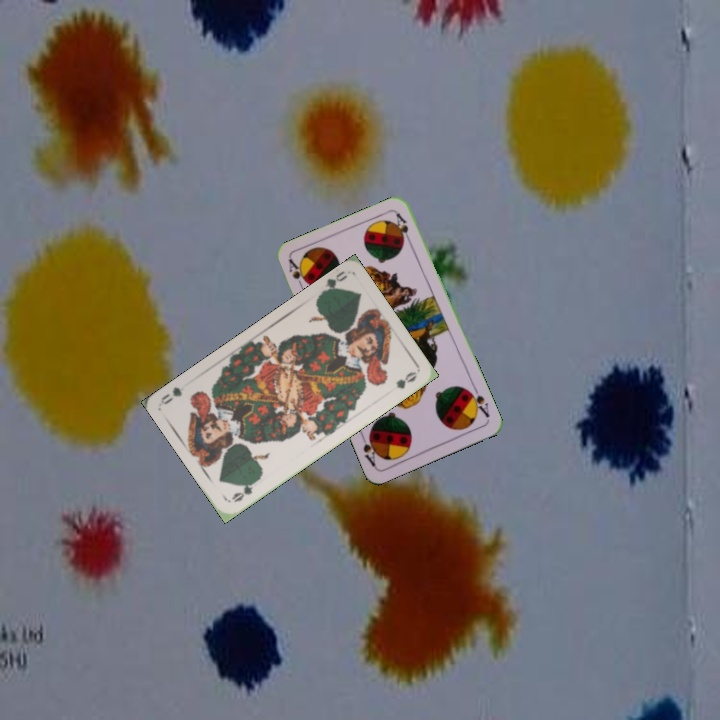GO: (315, 267, 350, 299), (228, 475, 261, 505)
SA: (463, 382, 492, 420), (285, 256, 308, 295)
